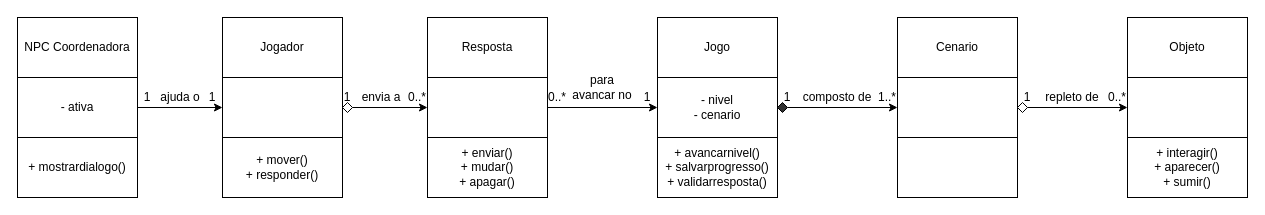
The diagram is 1265 pixels wide and 215 high, and some of its shapes have lost their labels. Here are the shapes that lost their labels. From the top down, the centre of each, then its label:
At pixel 282 107: "- nivel - velocidade".
At pixel 487 107: "- nivel - tempo - respota".
At pixel 957 107: "- objetos - personagens".
At pixel 1187 107: "- formato/sprite - interativo".
